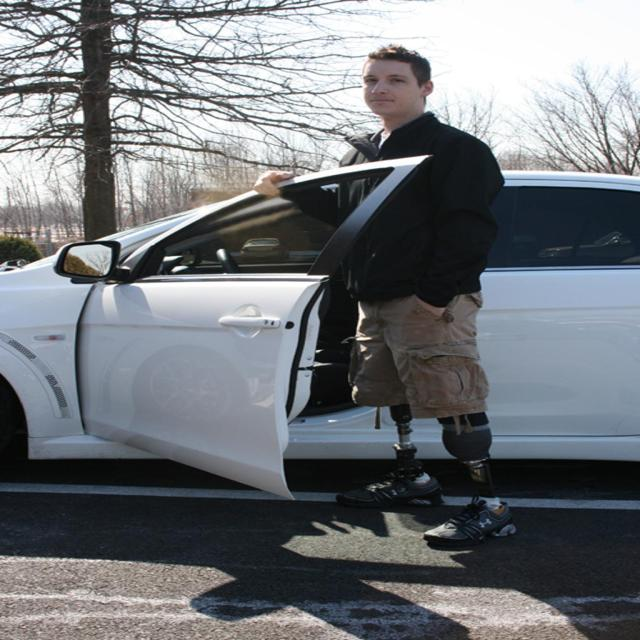Face: (345, 60, 429, 121)
